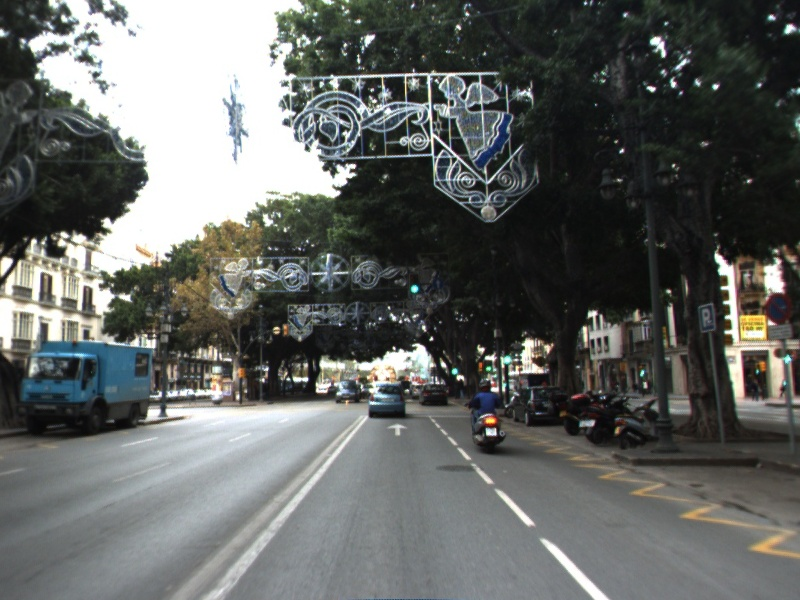STRAIGHT: (385, 421, 409, 438)
